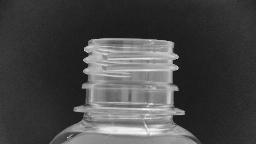No Cap: (70, 34, 188, 119)
